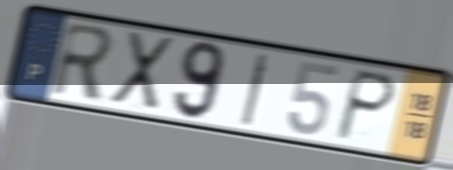5: (285, 58, 342, 137)
9: (171, 38, 227, 122)
I: (238, 50, 274, 129)
P: (331, 67, 399, 144)
R: (48, 19, 119, 104)
X: (106, 28, 177, 116)
